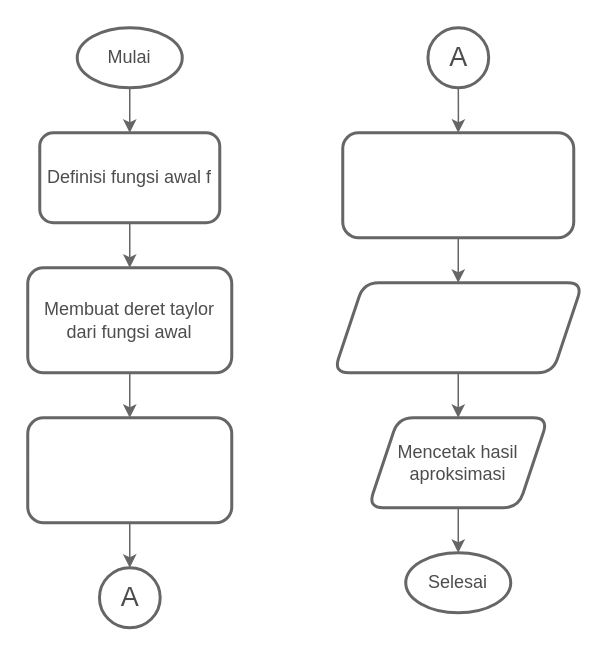
Image size: 609x654. Some labels were removed from this diagram. Each missing label, with the box of its shape:
Memanggil fungsi Taylor yang telah dimasukkan variabel x (eval): (340, 130, 574, 238)
Memasukkan nilai x yang disesuaikan dengan fungsi asli: (26, 416, 232, 524)
Mencetak deret Taylor: (332, 280, 584, 374)
